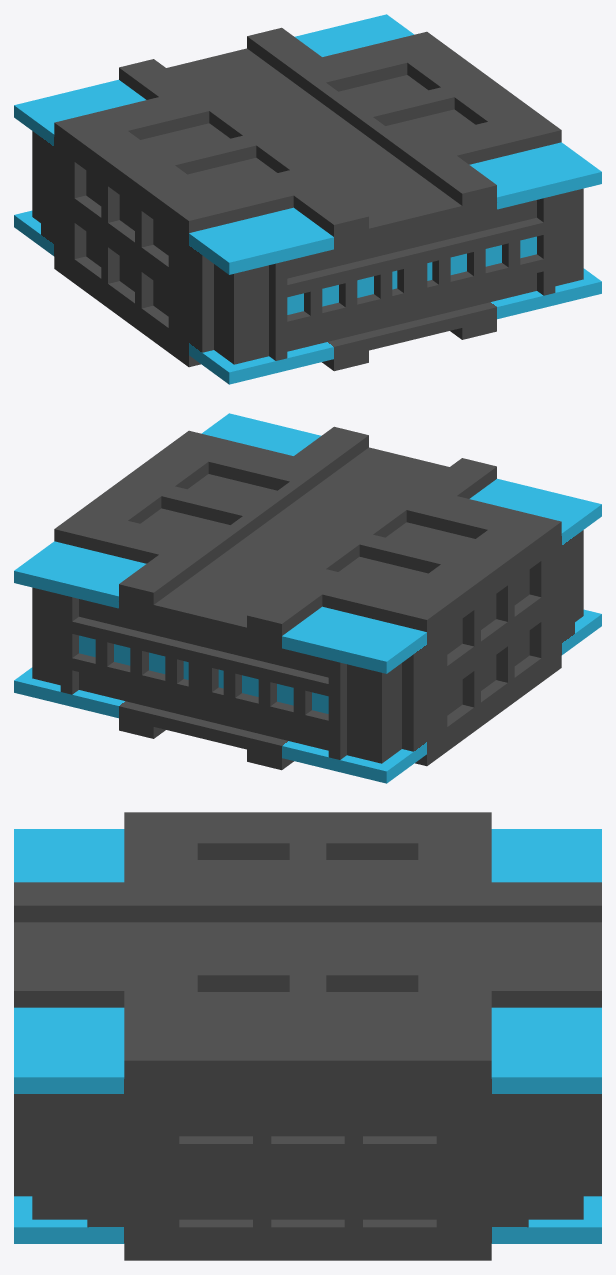
The model's file is alien_saucer1a.fbx.
3 views of the same model, one above another, from view 1: azimuth 30°, elevation 25°; view 2: azimuth 150°, elevation 25°; view 3: azimuth 270°, elevation 25° (orthographic). The views are drawn at different scales.
Visible parts, largest first — view 1: alien_saucer1a; view 2: alien_saucer1a; view 3: alien_saucer1a.
Part boxes in pixels (bbox=[...]): alien_saucer1a: bbox=[14, 14, 601, 384]; alien_saucer1a: bbox=[14, 413, 601, 783]; alien_saucer1a: bbox=[14, 812, 601, 1260].
Bounding box in the file's own units: 3.2 × 3.2 × 1.2.
Materials: 1 (1 with a texture image).
